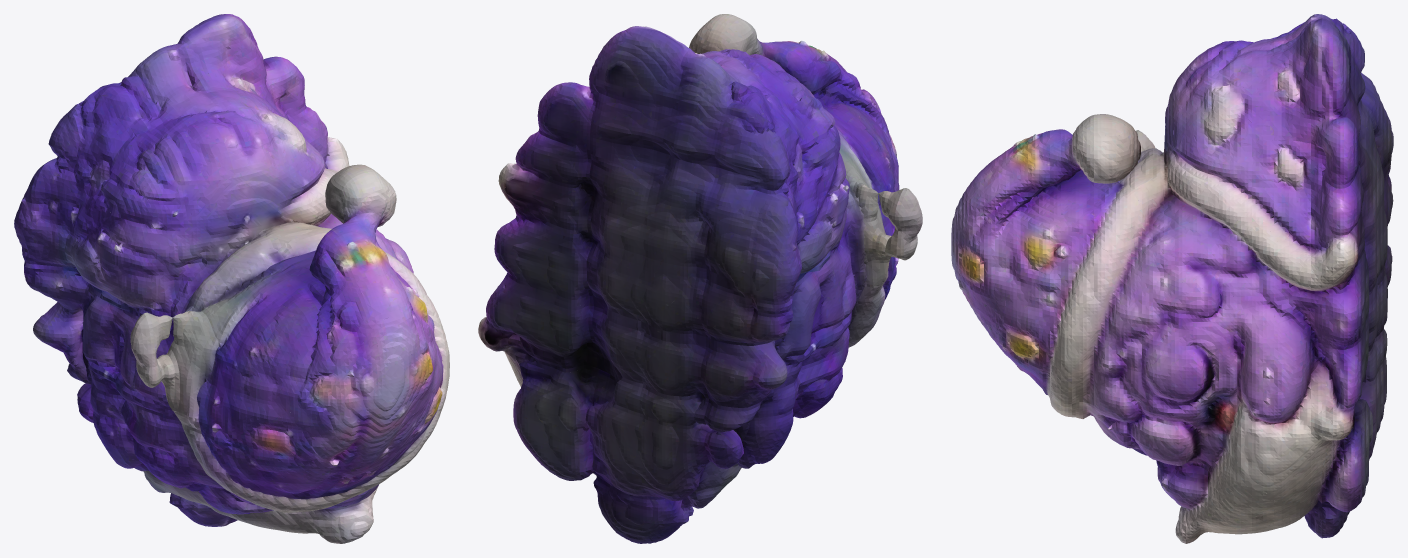
File: sleep.glb
The picture shows the model from 3 angles, left to right: view 1: azimuth 30°, elevation 25°; view 2: azimuth 150°, elevation 25°; view 3: azimuth 270°, elevation 25°; orthographic projection.
Visible parts, largest first — view 1: geometry_0; view 2: geometry_0; view 3: geometry_0.
Boxes of the visible parts, <box> form: geometry_0: <box>14,14,449,543</box>; geometry_0: <box>478,14,922,543</box>; geometry_0: <box>951,14,1393,543</box>.
Bounding box in the file's own units: 0.7216 × 1.03 × 0.8219.
1 material, 1 textured.
